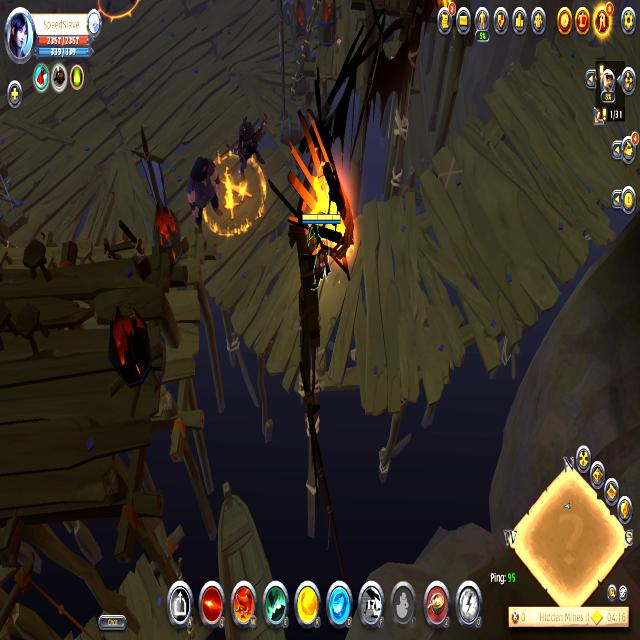ore: (184, 144, 226, 242), (227, 109, 271, 188), (94, 0, 140, 20)
red: (300, 208, 342, 302)
